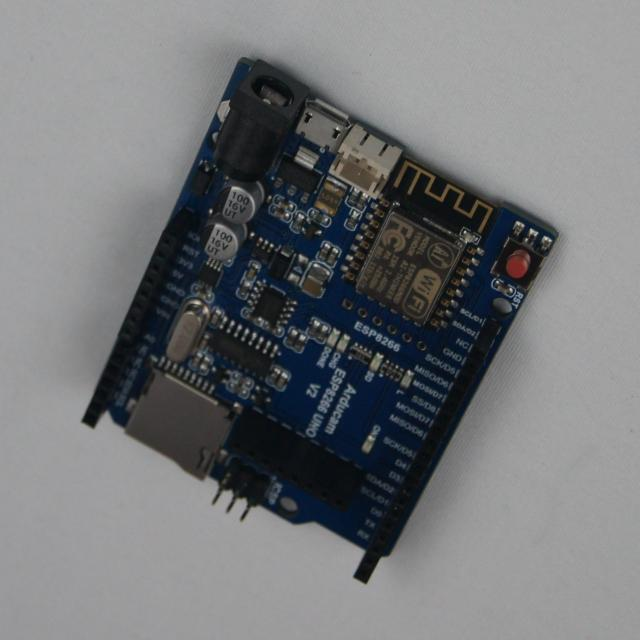Arduino Uno Camera Shield: (84, 59, 558, 583)
